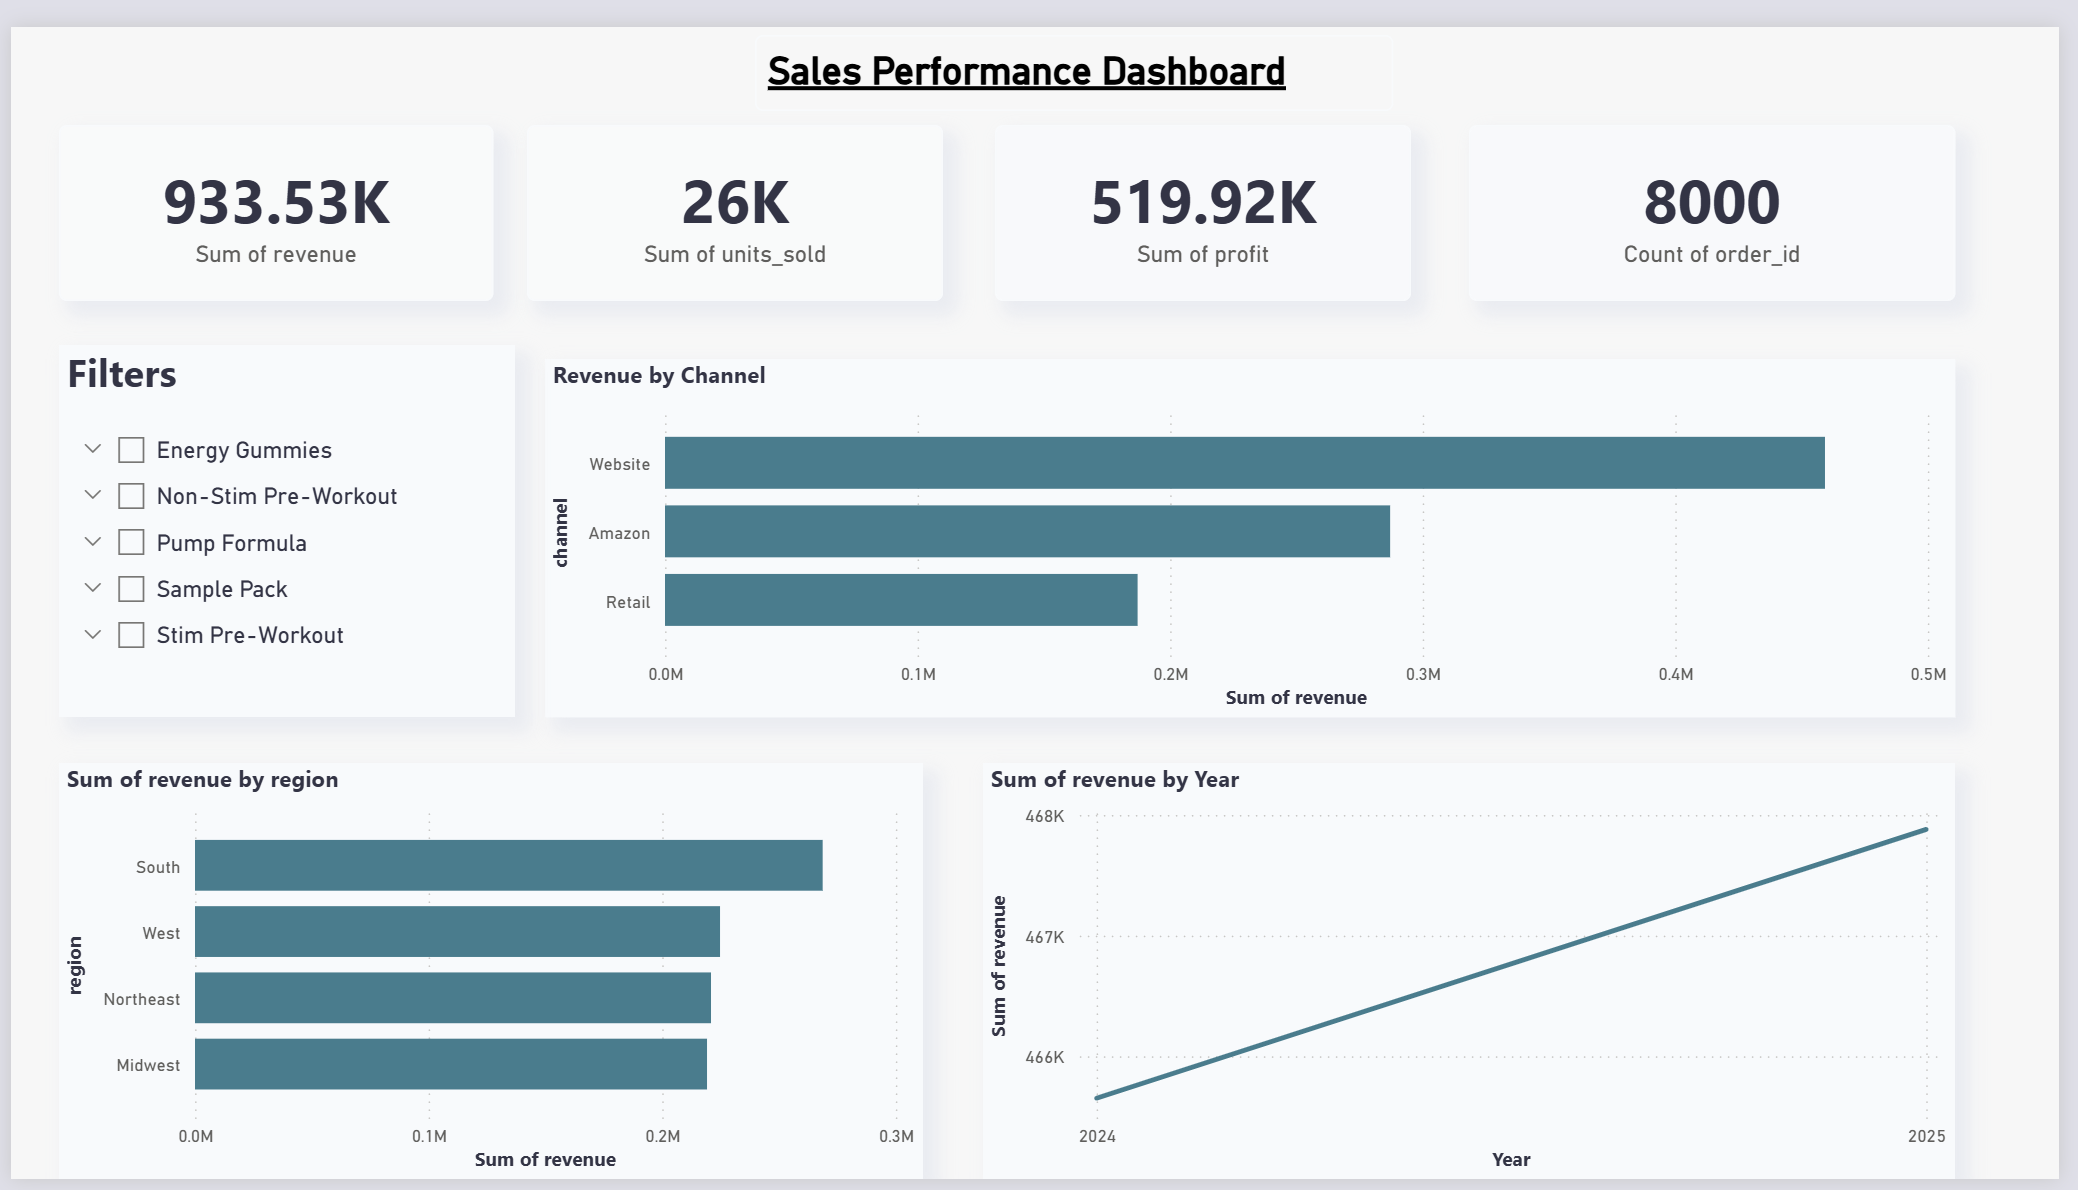

Layout of this report page (visuals, bound fields, positions):
{"tool":"powerbi","page":{"name":"Executive Overview","canvas":[1280,720],"ordinal":0},"visuals":[{"type":"card","fields":{"Values":["Sum(cleaned_sales_data.revenue)"]},"box":[30,61.2,271.2,110],"z":0},{"type":"card","fields":{"Values":["Sum(cleaned_sales_data.profit)"]},"box":[615,61.2,260,110],"z":1000},{"type":"card","fields":{"Values":["Sum(cleaned_sales_data.units_sold)"]},"box":[322.5,61.2,260,110],"z":2000},{"type":"card","fields":{"Values":["Count(cleaned_sales_data.order_id)"]},"box":[911.2,61.2,303.8,110],"z":3000},{"type":"lineChart","fields":{"Category":["cleaned_sales_data.year_month.Variation.Date Hierarchy.Year","cleaned_sales_data.year_month.Variation.Date Hierarchy.Quarter","cleaned_sales_data.year_month.Variation.Date Hierarchy.Month","cleaned_sales_data.year_month.Variation.Date Hierarchy.Day"],"Y":["Sum(cleaned_sales_data.revenue)"]},"box":[607.5,460,607.5,260],"z":4000},{"type":"clusteredBarChart","title":"Revenue by Channel","fields":{"Y":["Sum(cleaned_sales_data.revenue)"],"Category":["cleaned_sales_data.channel"]},"box":[333.8,207.5,881.2,223.8],"z":5000},{"type":"clusteredBarChart","fields":{"Y":["Sum(cleaned_sales_data.revenue)"],"Category":["cleaned_sales_data.region"]},"box":[30,460,540,260],"z":6000},{"type":"slicer","title":"Filters","fields":{"Values":["cleaned_sales_data.category","cleaned_sales_data.channel","cleaned_sales_data.region","cleaned_sales_data.year"]},"box":[30,198.8,285,232.5],"z":7000},{"type":"textbox","box":[425.8,5.1,485.7,47.2],"z":8000}]}

Visuals, with their boxes in screenshot pixels (x1, y1, x2, y2), scaled from the page's 1280x720 canvas onto the 2078x1190 screenshot:
card - Sum(cleaned_sales_data.revenue): l=49, t=101, r=489, b=283
card - Sum(cleaned_sales_data.profit): l=998, t=101, r=1421, b=283
card - Sum(cleaned_sales_data.units_sold): l=524, t=101, r=946, b=283
card - Count(cleaned_sales_data.order_id): l=1479, t=101, r=1972, b=283
lineChart - cleaned_sales_data.year_month.Variation.Date Hierarchy.Year x cleaned_sales_data.year_month.Variation.Date Hierarchy.Quarter: l=986, t=760, r=1972, b=1189
"Revenue by Channel" clusteredBarChart: l=542, t=343, r=1972, b=713
clusteredBarChart - Sum(cleaned_sales_data.revenue) x cleaned_sales_data.region: l=49, t=760, r=925, b=1189
"Filters" slicer: l=49, t=329, r=511, b=713
textbox: l=691, t=8, r=1480, b=86
